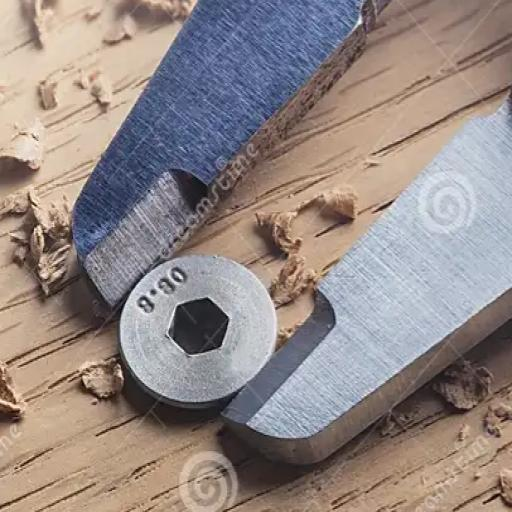Hex-Allen: (116, 252, 279, 408)
